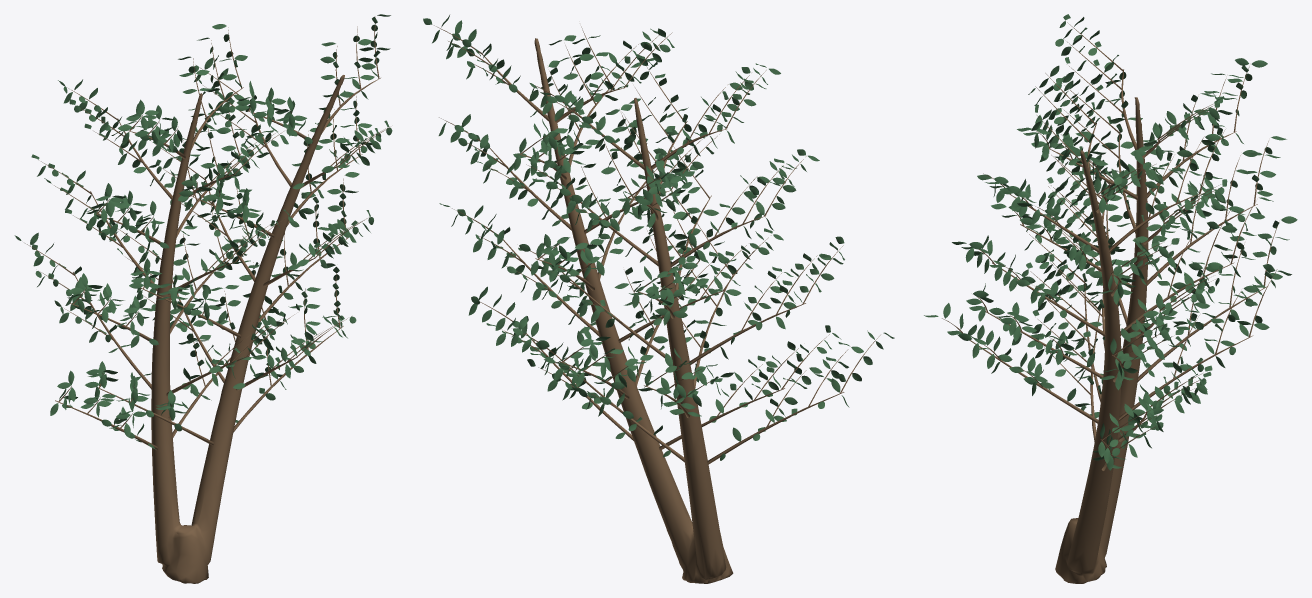
Rendered from Myrte_2_Niveau0.fbx.
3 views of the same model, side by side, from view 1: azimuth 30°, elevation 25°; view 2: azimuth 150°, elevation 25°; view 3: azimuth 270°, elevation 25° (orthographic). The views are drawn at different scales.
Parts seen in each view (by area): view 1: Myrte_2_Niveau0; view 2: Myrte_2_Niveau0; view 3: Myrte_2_Niveau0.
Boxes of the visible parts, x1,y1,x2,y2 form: Myrte_2_Niveau0: (14, 14, 392, 583); Myrte_2_Niveau0: (423, 15, 894, 583); Myrte_2_Niveau0: (924, 14, 1297, 583).
Bounding box in the file's own units: 126 × 153 × 96.62.
